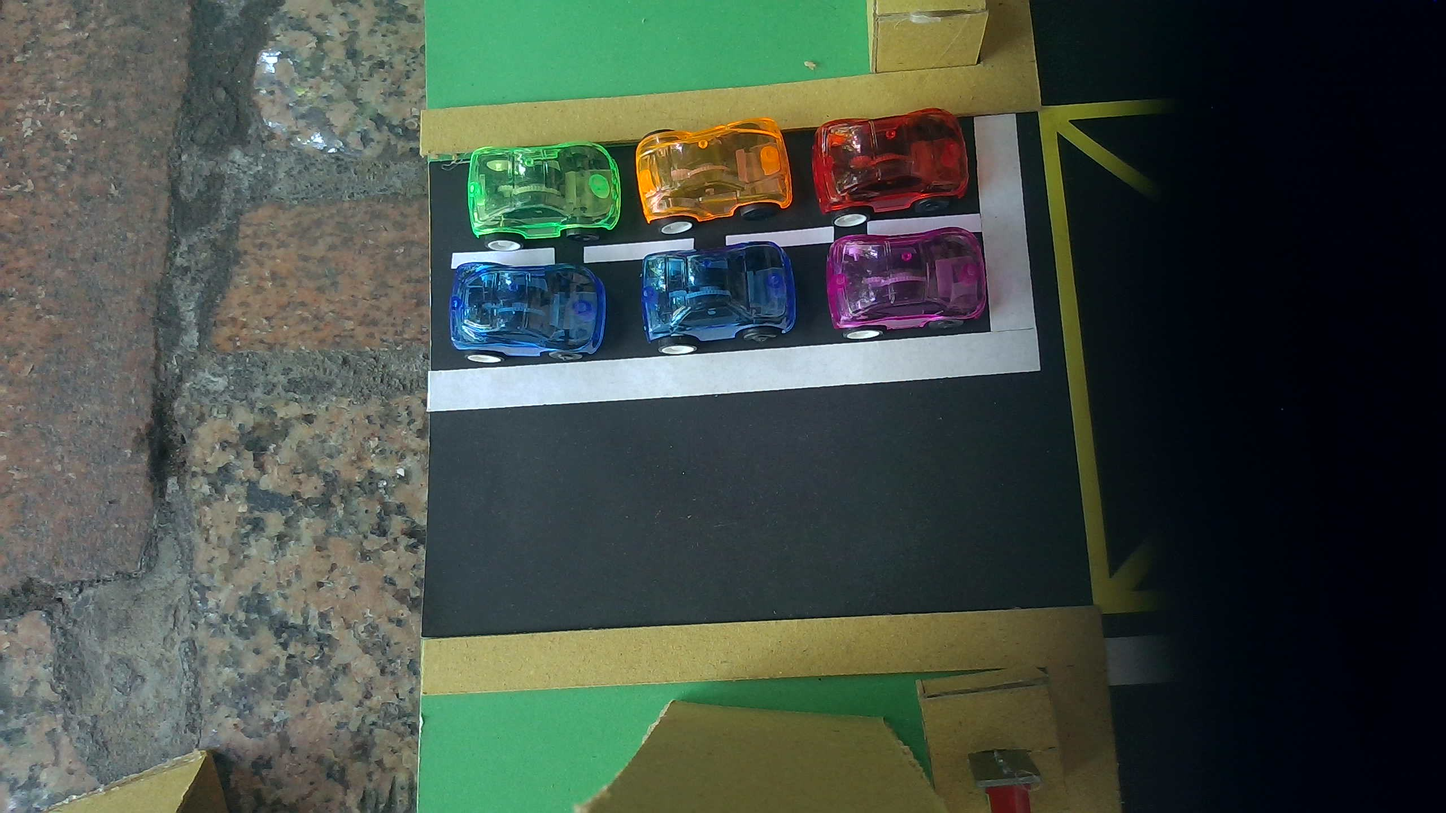Mobil biru: (641, 241, 796, 354), (448, 262, 607, 364)
Mobil hijau: (467, 141, 621, 251)
Mobil merah: (812, 108, 969, 226)
Mobil orange: (635, 117, 792, 234)
Mobil ungu: (826, 228, 987, 339)
